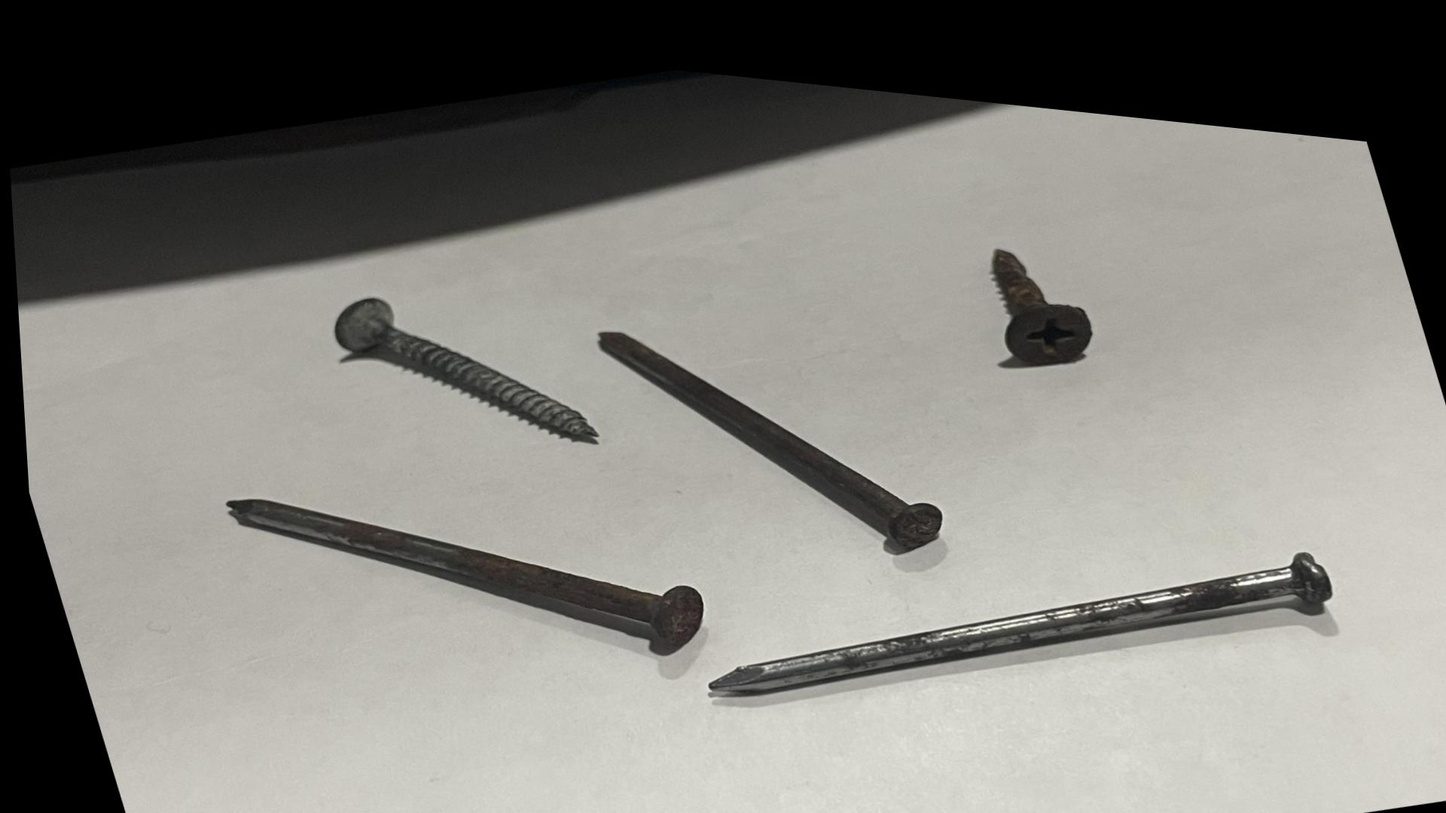nail: (649, 442, 1395, 795), (139, 378, 732, 767), (581, 216, 980, 601)
screw: (283, 209, 615, 505), (938, 164, 1129, 391)
